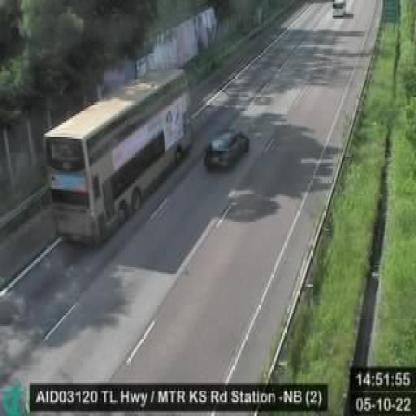Bus: (42, 70, 192, 244)
Car: (206, 128, 248, 170)
